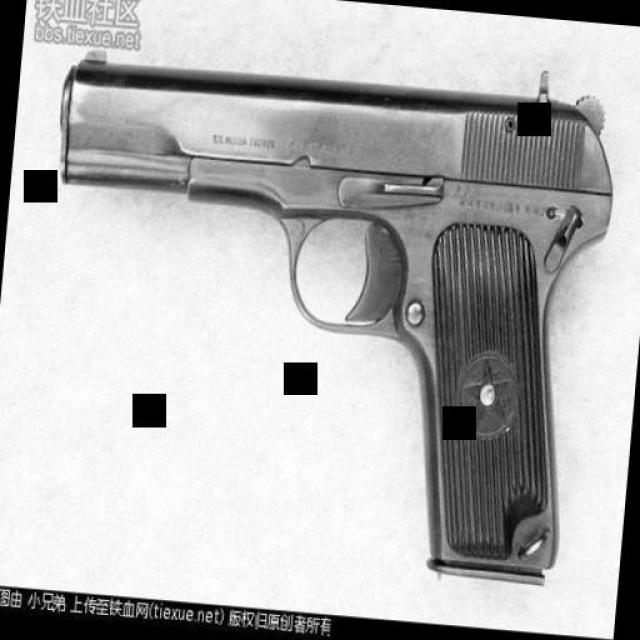gun: (21, 36, 620, 592)
